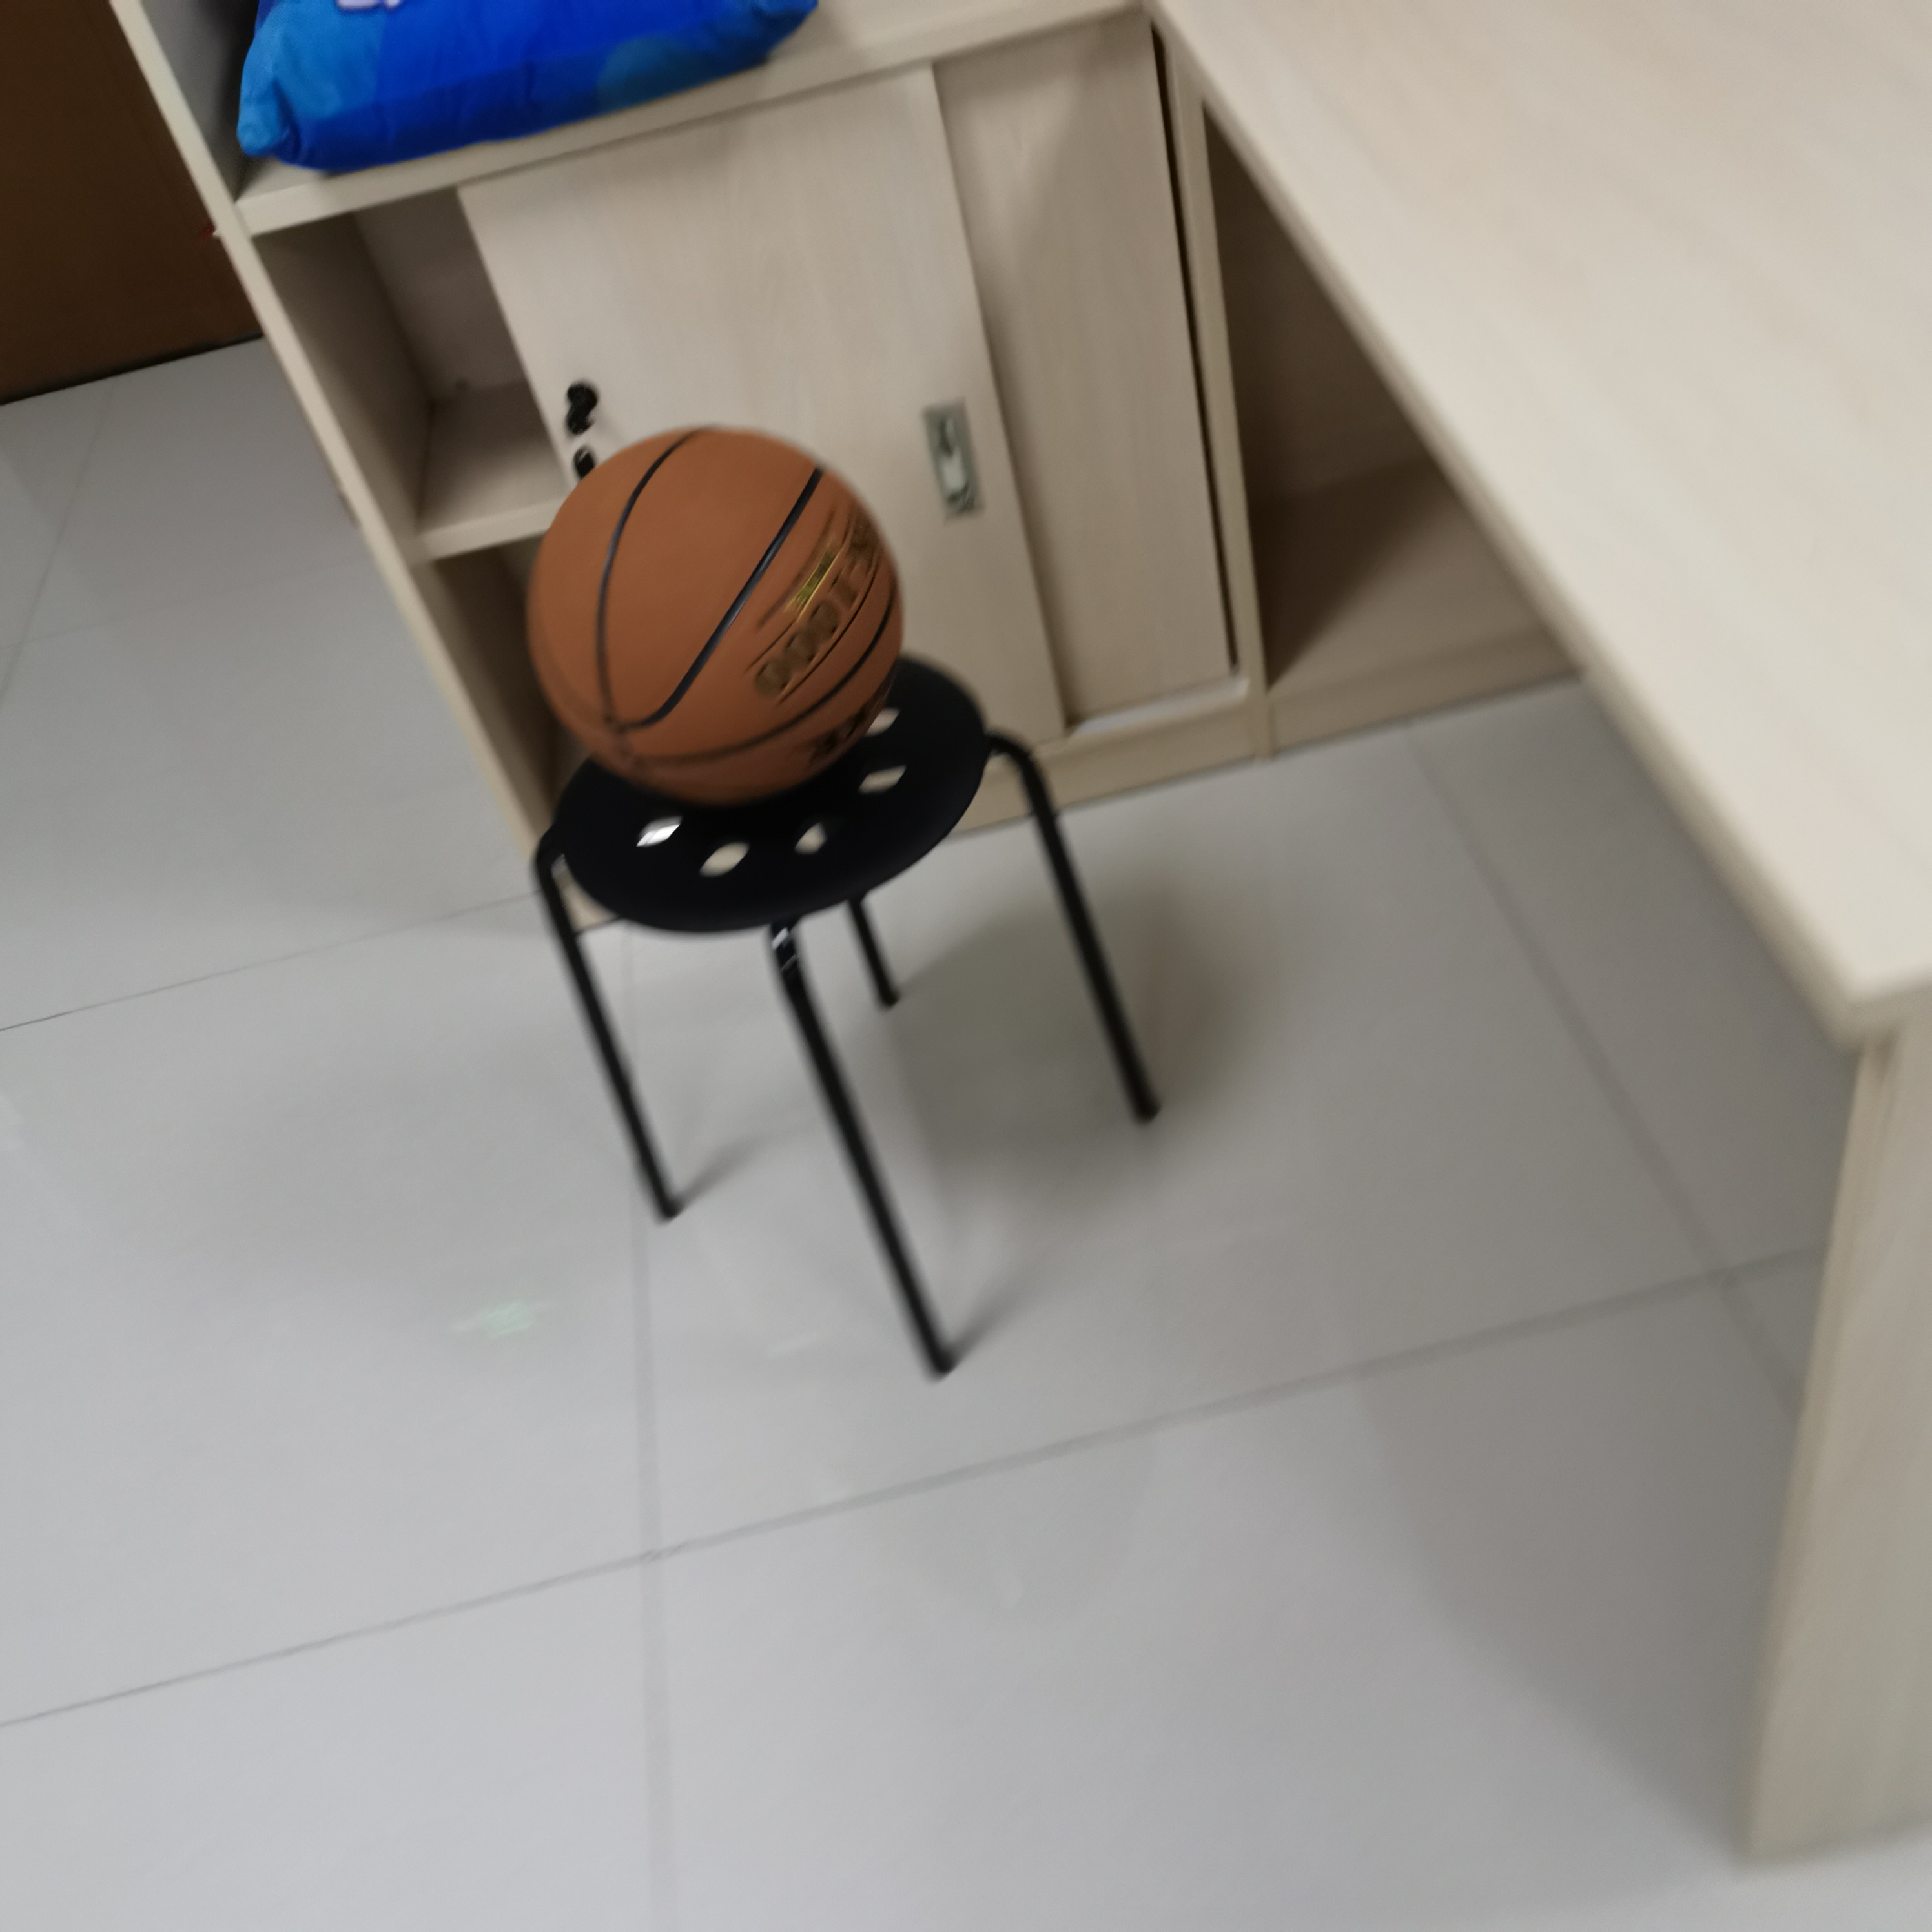basketball: (527, 430, 904, 794)
